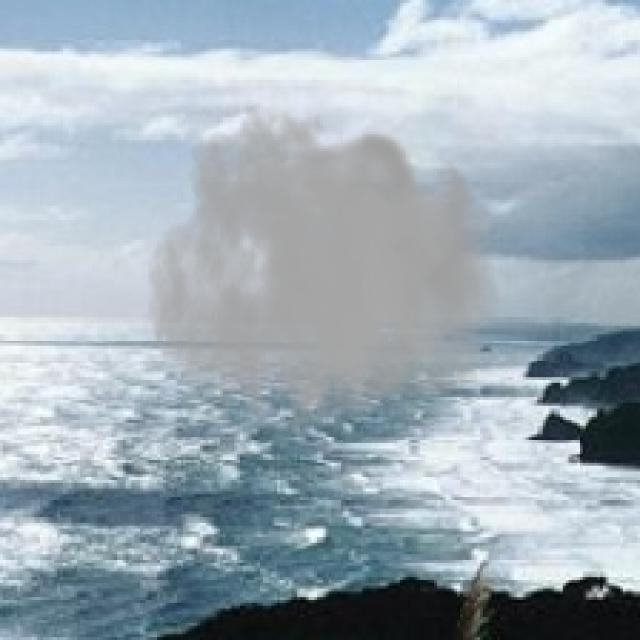smoke: (146, 100, 500, 460)
